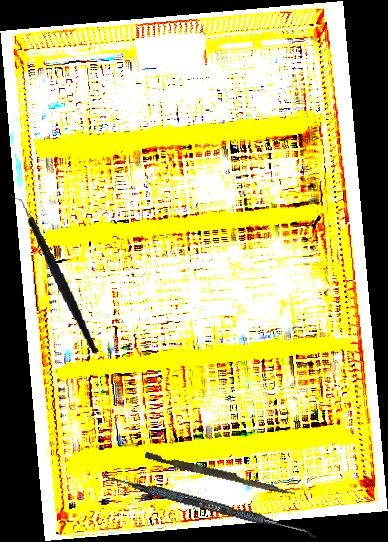Chopper: (6, 186, 100, 361)
Pusher: (143, 451, 297, 497)
Spatula Surgical: (101, 473, 320, 539)
